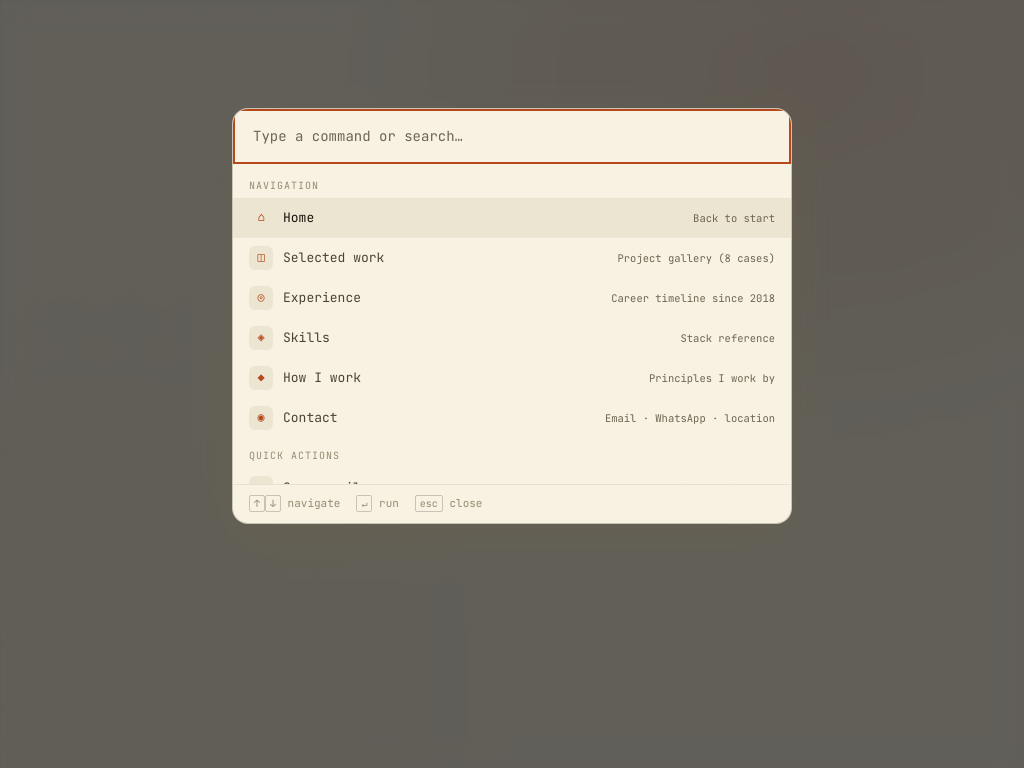
it: CommandPalette › matches on description text when filtering
The width and height of the screenshot is (1024, 768).
# "clipboard" only appears in the copyEmail description, not its label.
In the dropdown: [512, 136] box [233,108,791,164], type "clipboard"
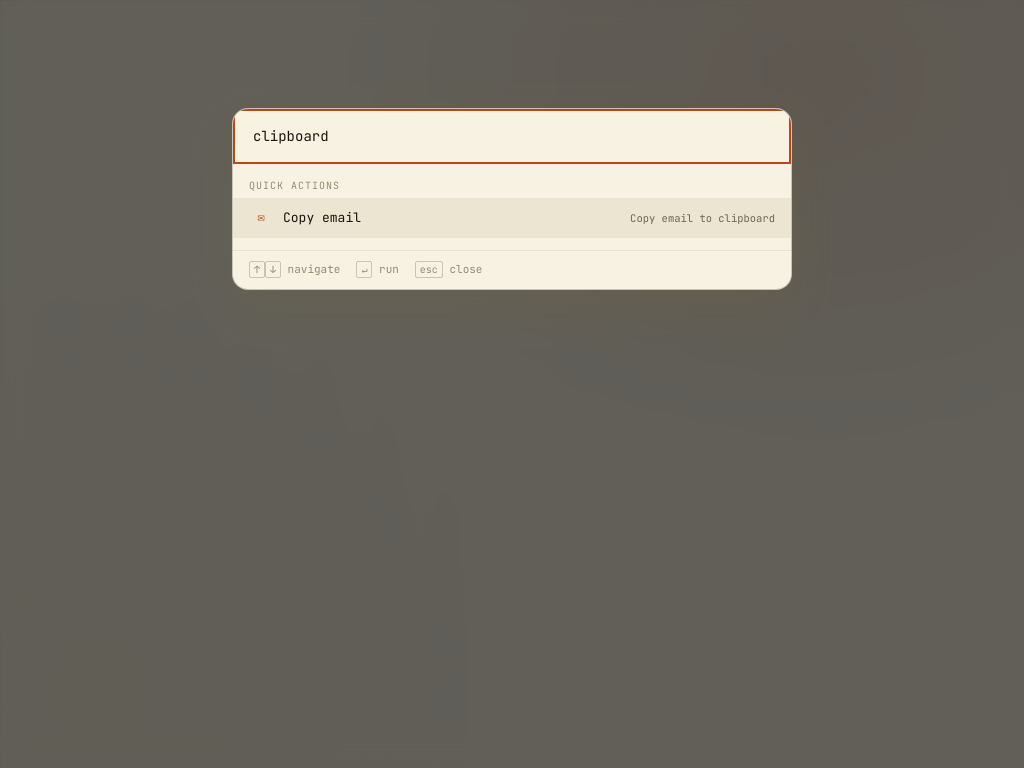
Expected: the option shows "Copy email", [233,198,791,238]
Expected: the number of options is 1, [233,198,791,238]
